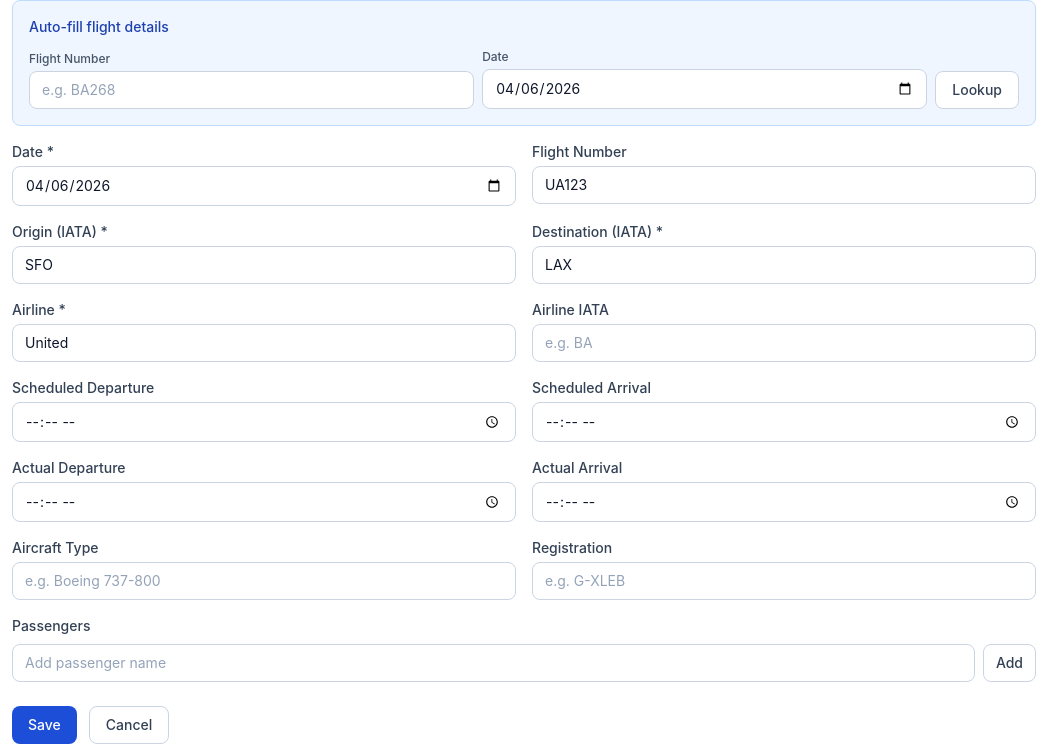
it: FlightForm › adds a passenger card when the add button is clicked
Type "Bob" into the field with placeholder "Add passenger name" at (493, 663), box [12,644,975,682]
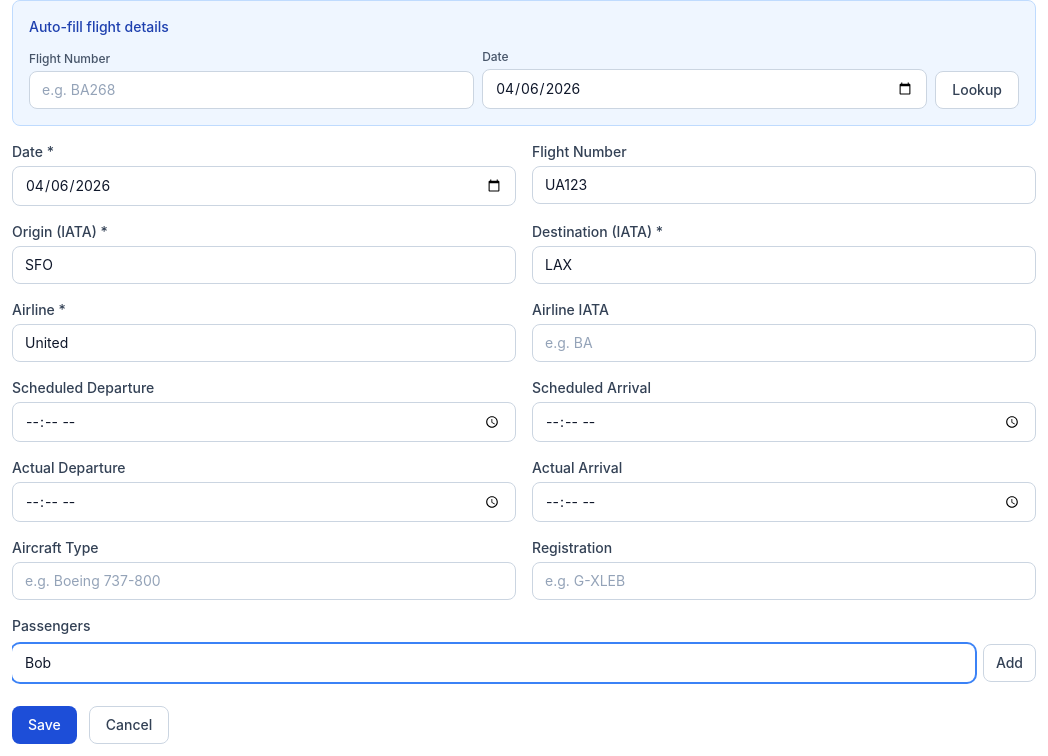
Click the button with aria-label "add passenger" at (1009, 663), box [983,644,1036,682]
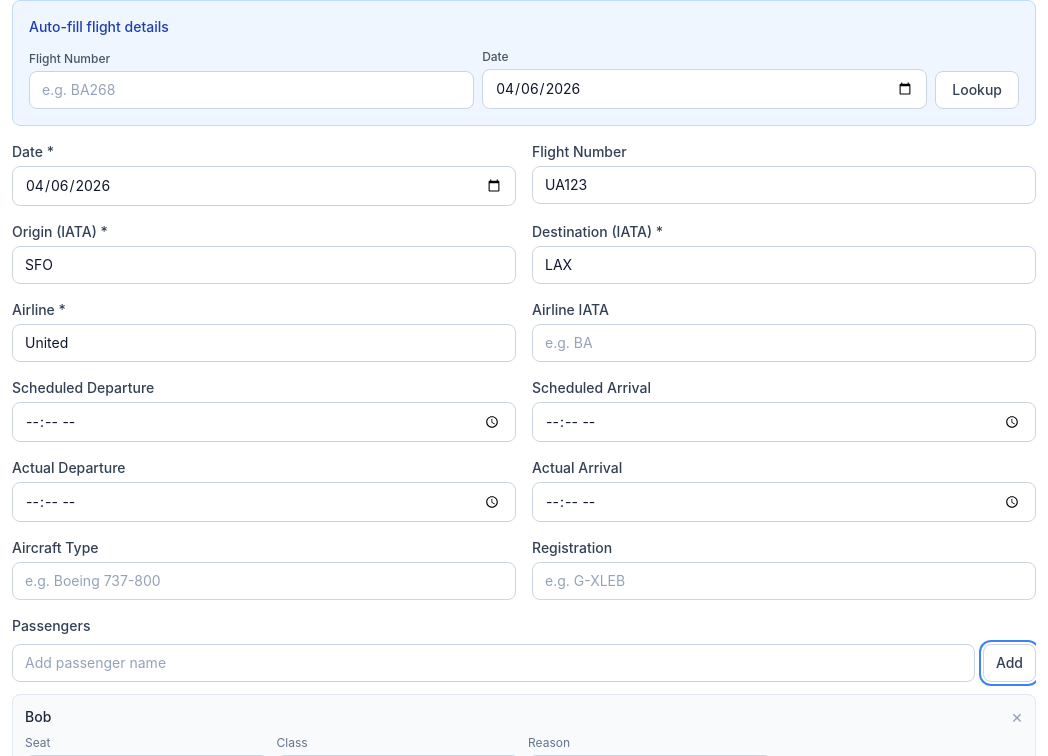
Now the text "Bob" is shown, box [25,707,51,727]
